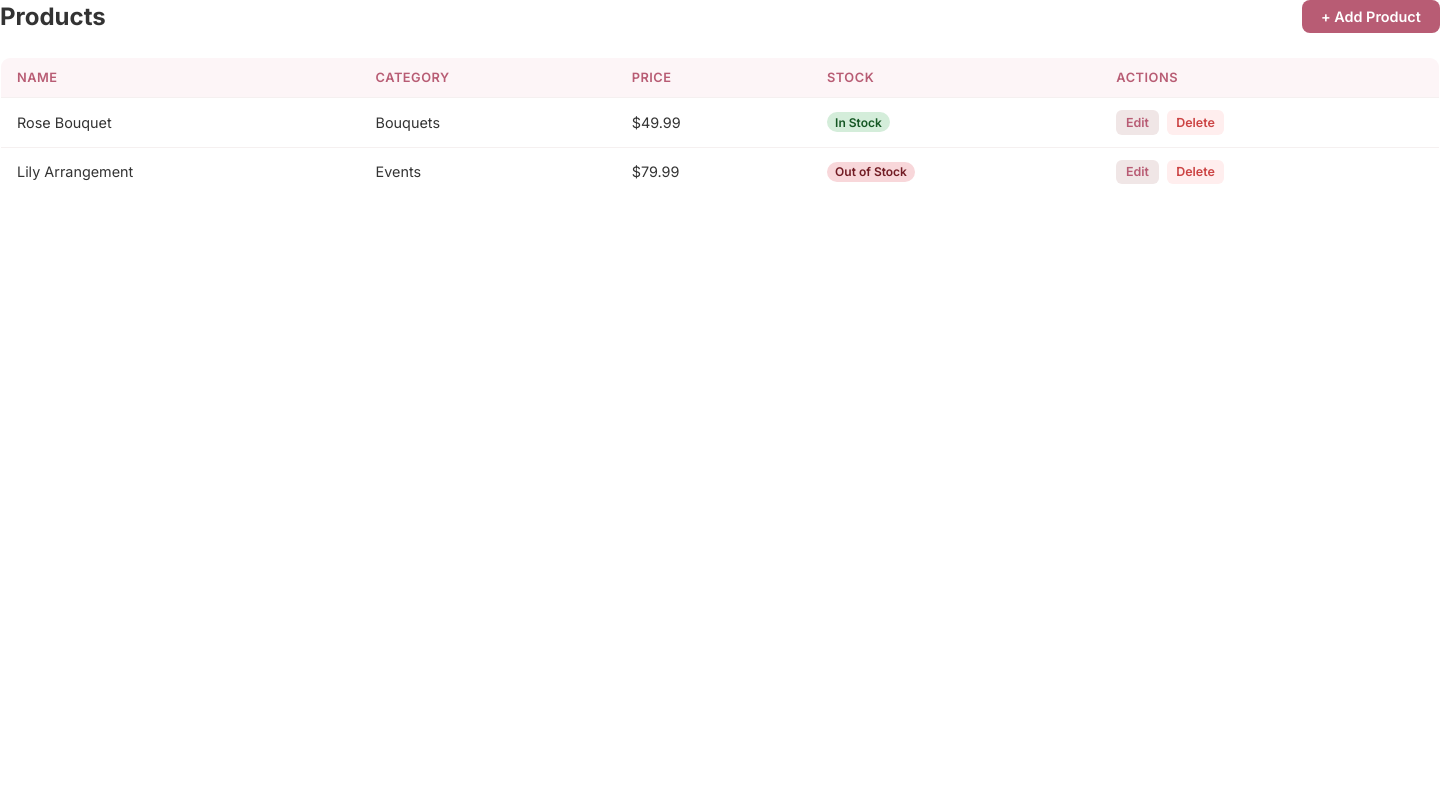
Test: AdminProductsPage › opens edit product modal with form populated
The image size is (1440, 810).
Expected: the text "Rose Bouquet" is shown, [0,98,360,147]
Click the button "Edit" in the row of "Rose Bouquet" at (1137, 122), box [1116,110,1158,135]
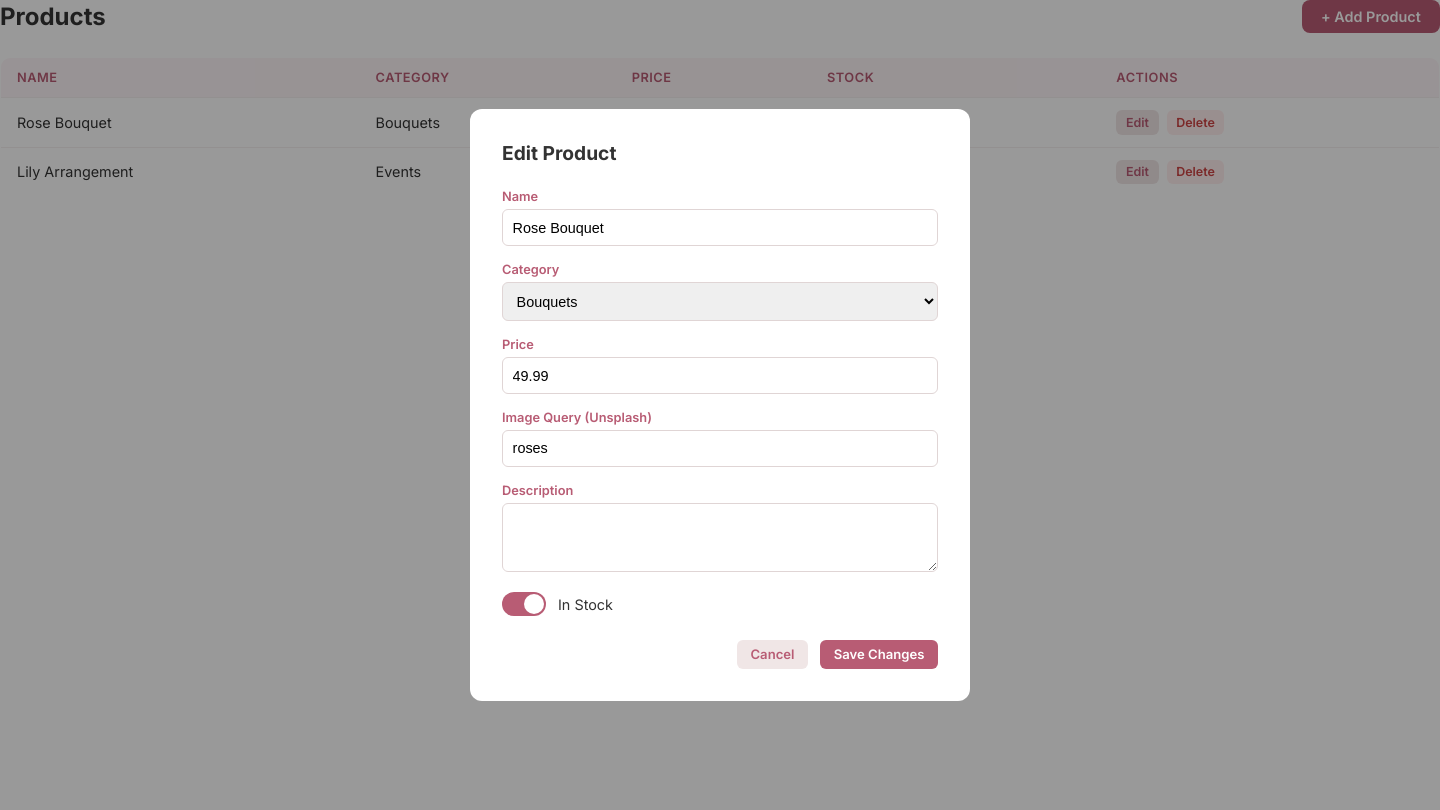
Expected: the heading "Edit Product" is shown, [502,141,616,165]
Expected: the button "Save Changes" is shown, [820,640,938,669]
